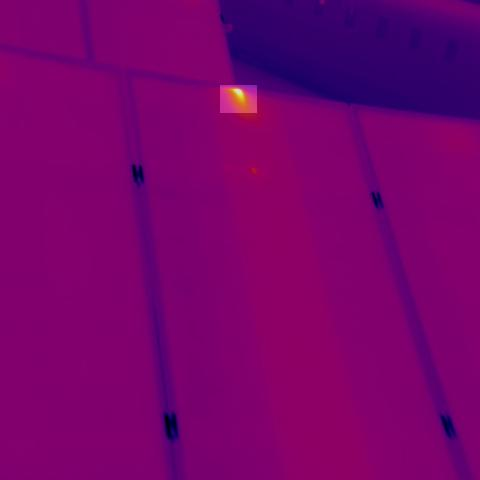fault: (220, 86, 257, 114)
